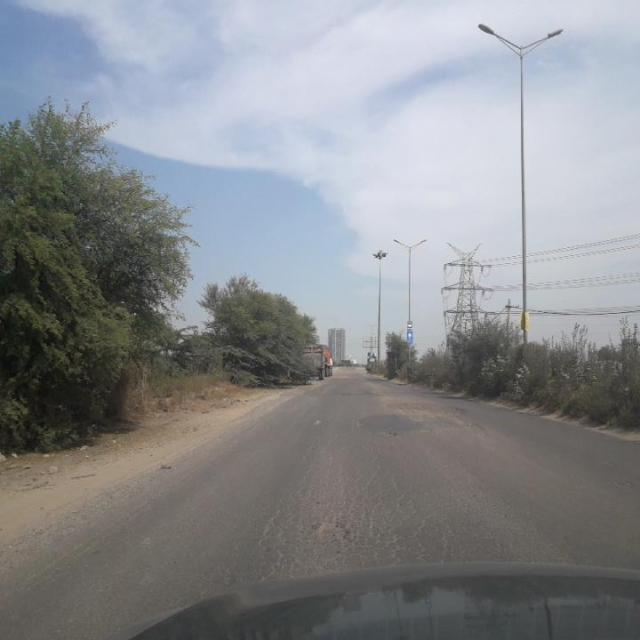D00: (21, 442, 228, 592)
D20: (229, 424, 464, 586)
D40: (298, 514, 364, 546), (396, 400, 460, 431)
